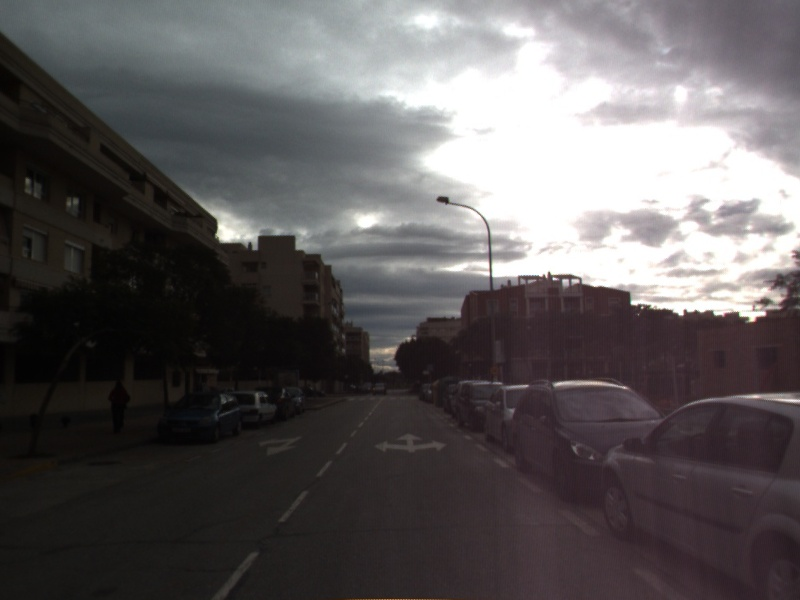STRAIGHT_LEFT_RIGHT: (372, 431, 449, 455)
